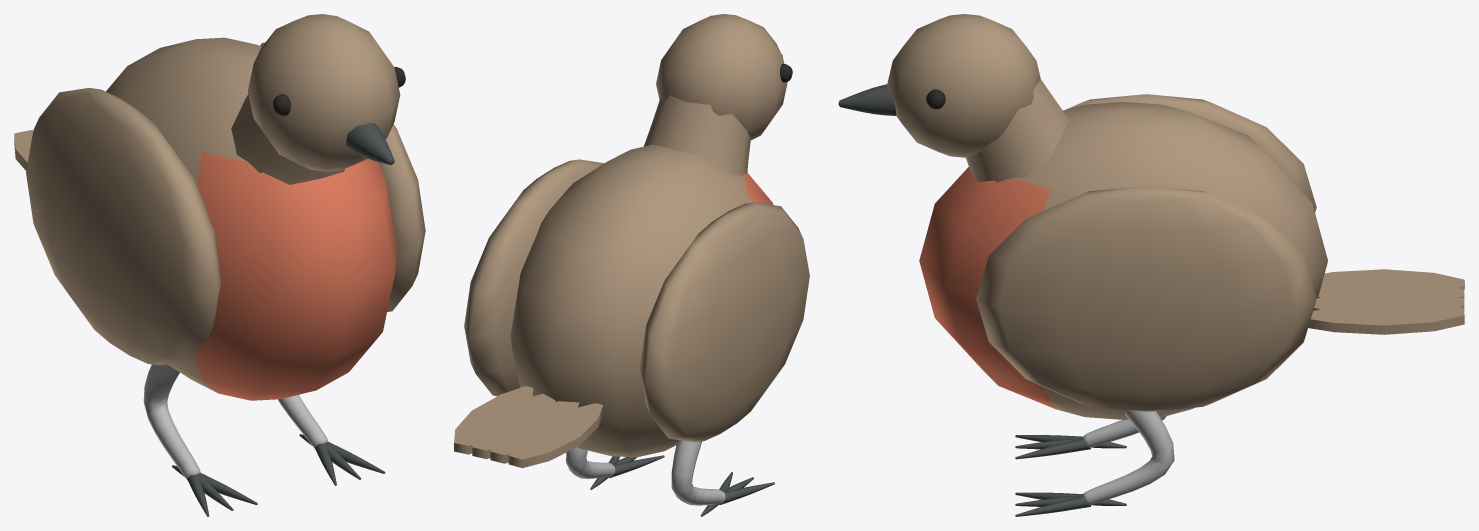
The model's file is birds-and-flying-creatures-european-robin-ce1b6f7a__20604.glb.
3 views of the same model, side by side, from view 1: azimuth 30°, elevation 25°; view 2: azimuth 150°, elevation 25°; view 3: azimuth 270°, elevation 25° (orthographic). The views are drawn at different scales.
Visible parts, largest first — view 1: european-robin; view 2: european-robin; view 3: european-robin.
Boxes of the visible parts, box(x1,y1,x2,y2) form: european-robin: box(14, 14, 425, 516); european-robin: box(454, 14, 809, 516); european-robin: box(838, 14, 1464, 516).
Bounding box in the file's own units: 0.0757 × 0.1289 × 0.1599.
